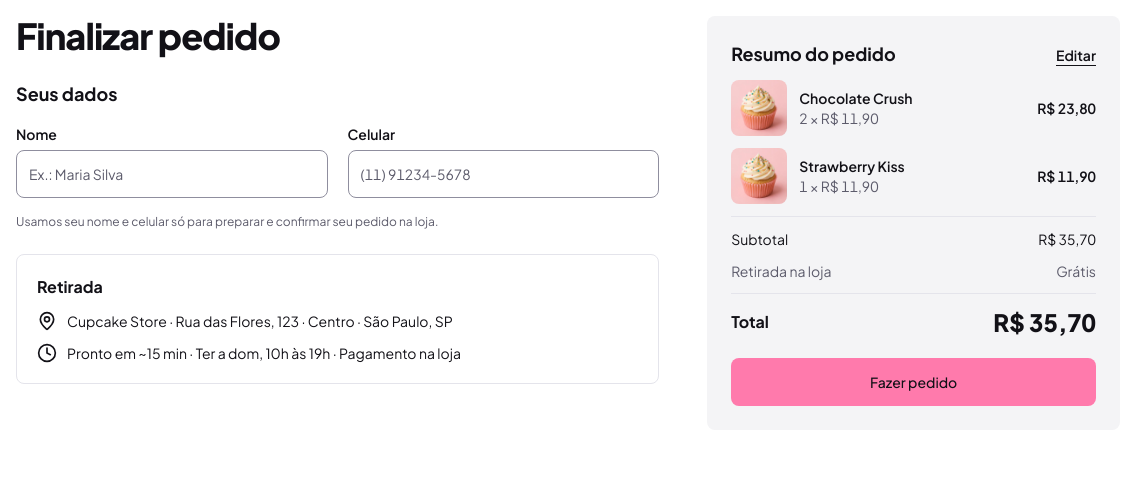
US-19 stock changes during checkout › AC1: shows 'só N disponível.' with 'Revisar', flags the summary line and keeps the cart
The width and height of the screenshot is (1137, 481).
Expected: the heading "Resumo do pedido" is shown, x1=731 y1=40 x2=896 y2=68
Step 1. Type "Ana Souza" into the field labelled "Nome" → (172, 174), box x1=16 y1=150 x2=328 y2=198
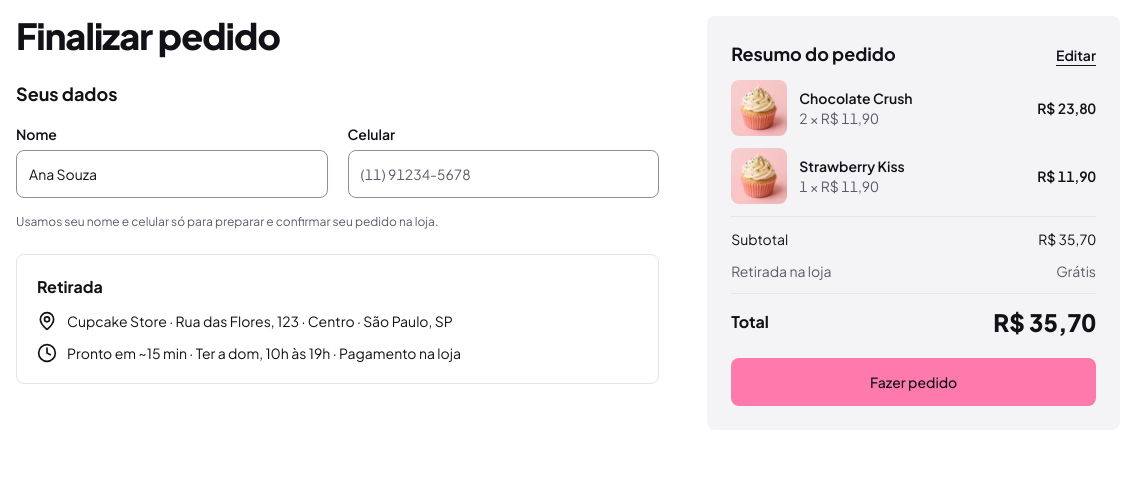
Step 2. Type "11912345678" into the field labelled "Celular" → (503, 174), box x1=348 y1=150 x2=659 y2=198
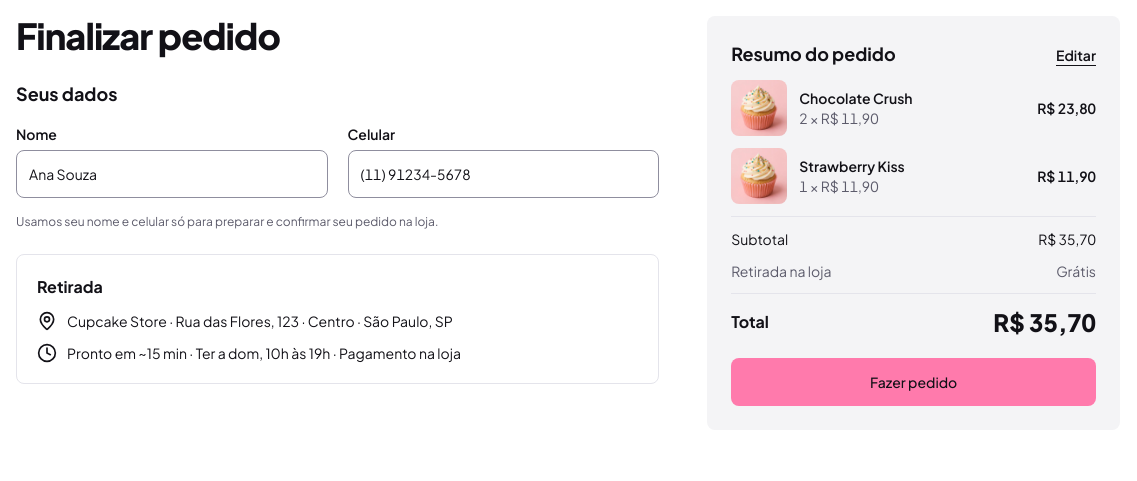
Step 3. Click the button "Fazer pedido" → click(914, 382), box x1=731 y1=358 x2=1096 y2=406
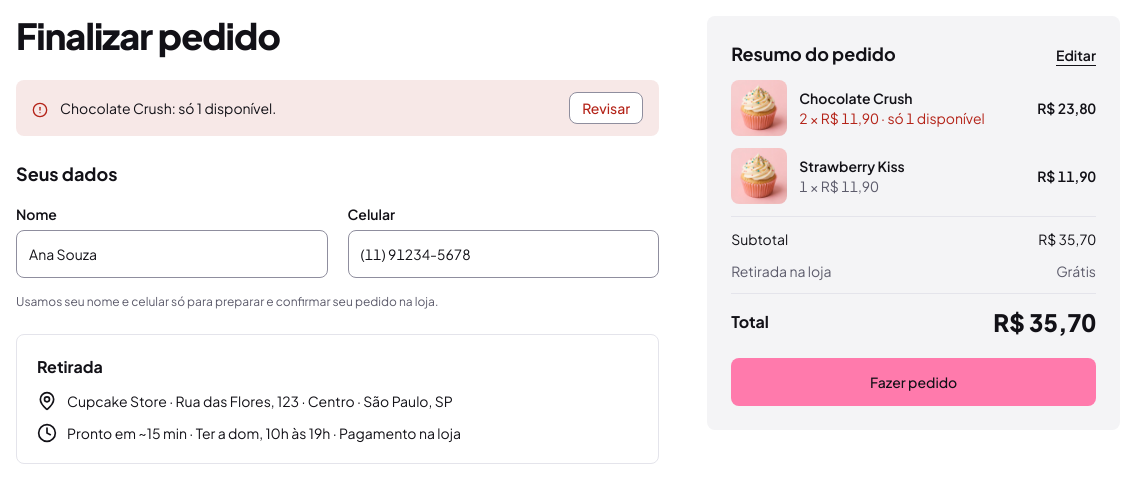
Expected: the message shows "Chocolate Crush: só 1 disponível.", x1=60 y1=99 x2=276 y2=117
